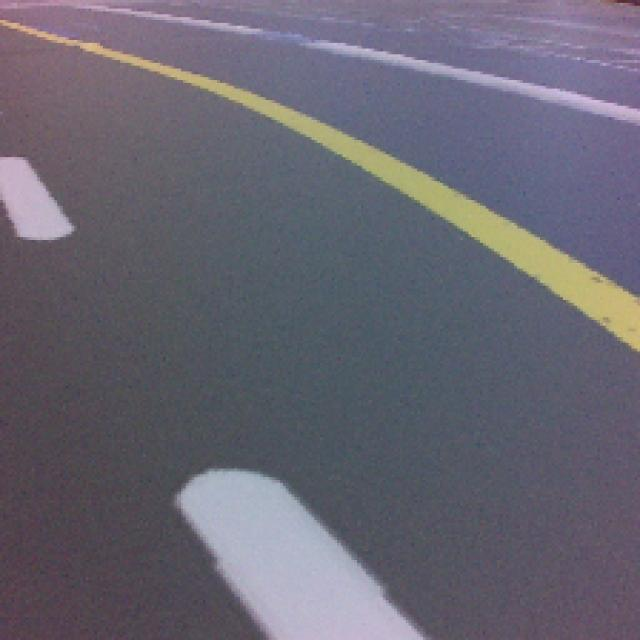Pedestrian crosswalk: (183, 464, 426, 640)
